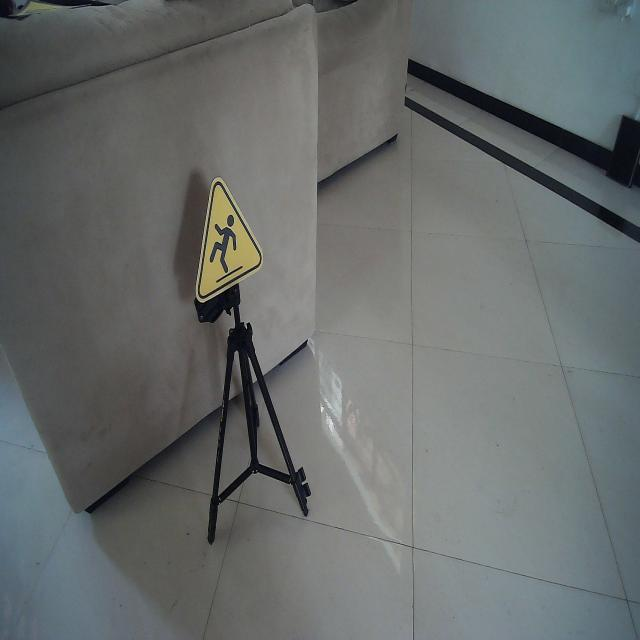slippery_sign: (194, 175, 264, 307)
